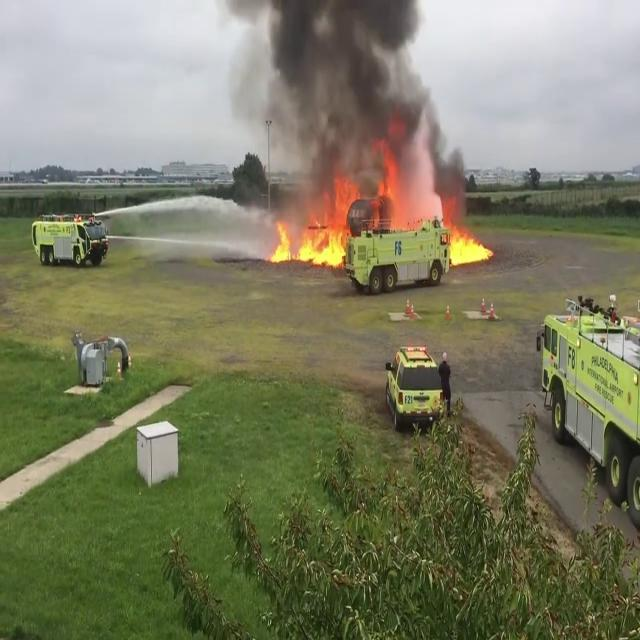Fire: (270, 212, 348, 270), (438, 218, 493, 266), (371, 148, 407, 208)
Smoke: (234, 0, 461, 201)
